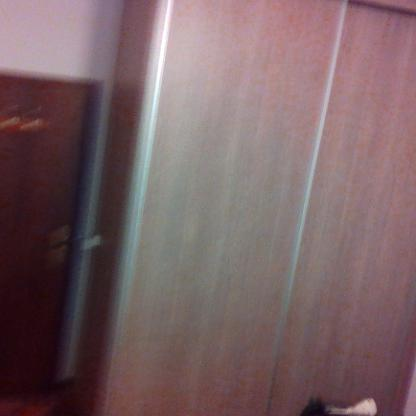door: (0, 75, 87, 388)
lever: (47, 231, 84, 251)
